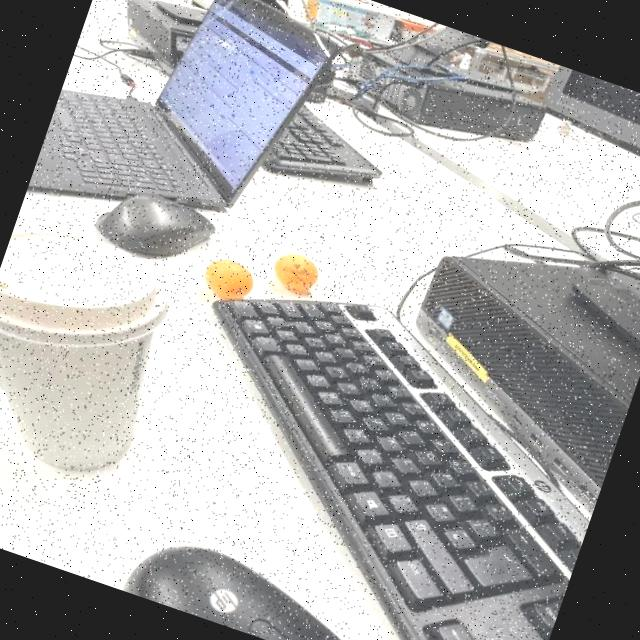ping-pong-ball: (266, 241, 328, 300), (198, 256, 260, 306)
